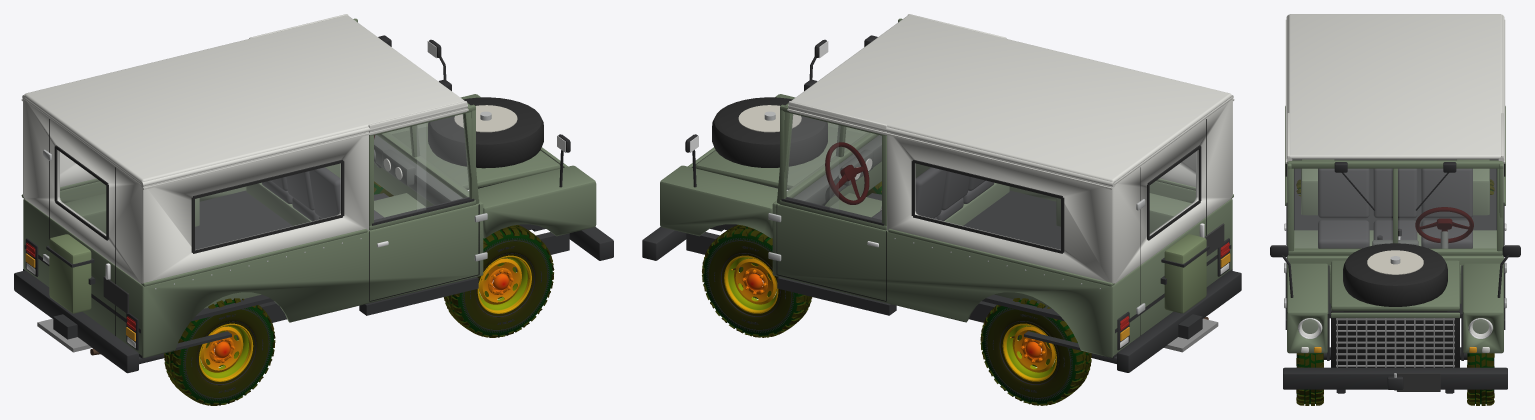
The model's file is offroad.glb.
3 renders of one model, left to right at view 1: azimuth 30°, elevation 25°; view 2: azimuth 150°, elevation 25°; view 3: azimuth 270°, elevation 25°, orthographic. The views are drawn at different scales.
Visible parts, largest first — view 1: Offroad_Body, WheelStock_RR, WheelStock_FR, Glass_SideR, Offroad_Cab, Glass_DoorR0, Glass_DoorR1, Glass_Back, Windshield_R, Numberplate_Rear; view 2: Offroad_Body, WheelStock_RL, WheelStock_FL, Glass_SideL, Glass_DoorL0, Offroad_Cab, Glass_DoorL1, Glass_Back, Windshield_L, Steering_Wheel; view 3: Offroad_Body, Offroad_Cab, Windshield_L, Windshield_R, Steering_Wheel, WheelStock_FR, WheelStock_FL, Numberplate_Front, Lens, Lamp_Head.
Boxes of the visible parts, x1,y1,x2,y2 form: Offroad_Body: (14,14,613,373); WheelStock_RR: (164,298,275,405); WheelStock_FR: (444,225,554,337); Glass_SideR: (195,164,340,249); Offroad_Cab: (262,135,462,221); Glass_DoorR0: (374,123,425,221); Glass_DoorR1: (417,114,468,209); Glass_Back: (58,151,105,234); Windshield_R: (416,115,468,192); Numberplate_Rear: (103,276,128,313); Offroad_Body: (642,14,1241,372); WheelStock_RL: (980,298,1091,405); WheelStock_FL: (702,224,812,337); Glass_SideL: (915,164,1060,249); Glass_DoorL0: (830,123,881,221); Offroad_Cab: (793,135,993,221); Glass_DoorL1: (787,114,838,209); Glass_Back: (1150,151,1196,234); Windshield_L: (787,115,839,192); Steering_Wheel: (825,142,869,204); Offroad_Body: (1270,14,1520,393); Offroad_Cab: (1318,168,1472,248); Windshield_L: (1400,169,1495,247); Windshield_R: (1295,169,1390,247); Steering_Wheel: (1415,207,1473,243); WheelStock_FR: (1296,353,1323,405); WheelStock_FL: (1467,353,1494,405); Numberplate_Front: (1396,373,1440,391); Lens: (1300,319,1490,337); Lamp_Head: (1299,319,1491,337).
Size of the model in its own units: 4.04 by 1.93 by 1.94.
